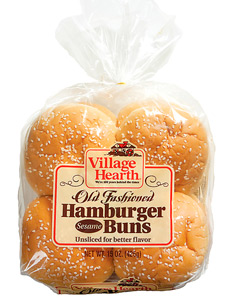hamburger_buns: (14, 100, 218, 294)
